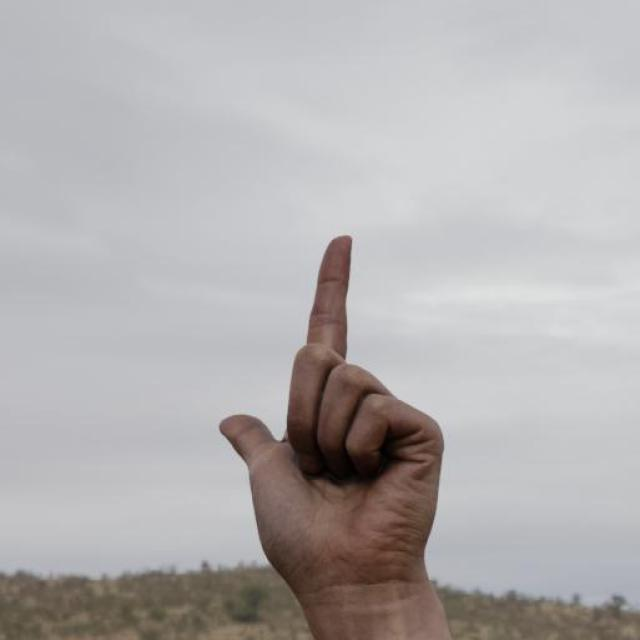L: (216, 235, 446, 560)
